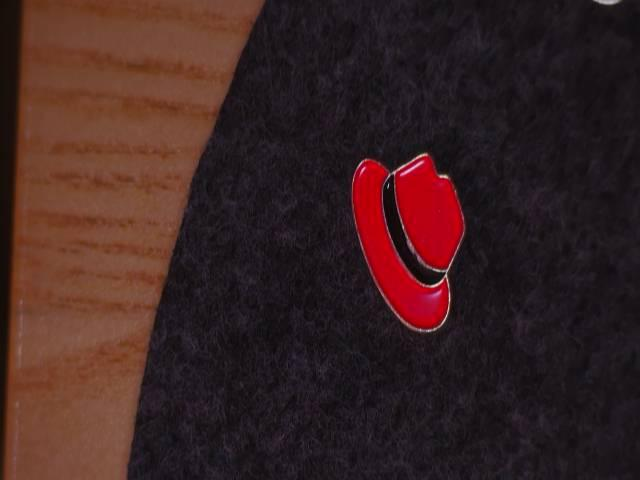Red-Hat: (317, 112, 482, 369)
